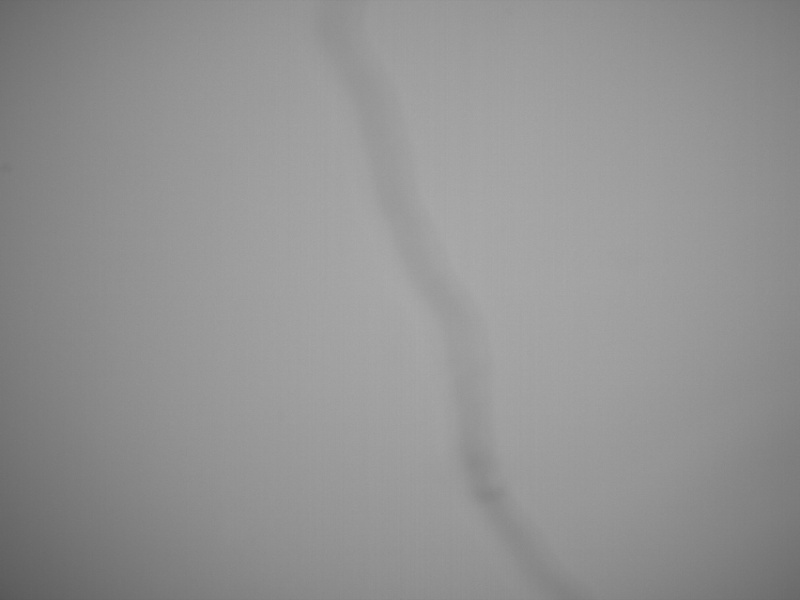fiber: (308, 2, 584, 600)
